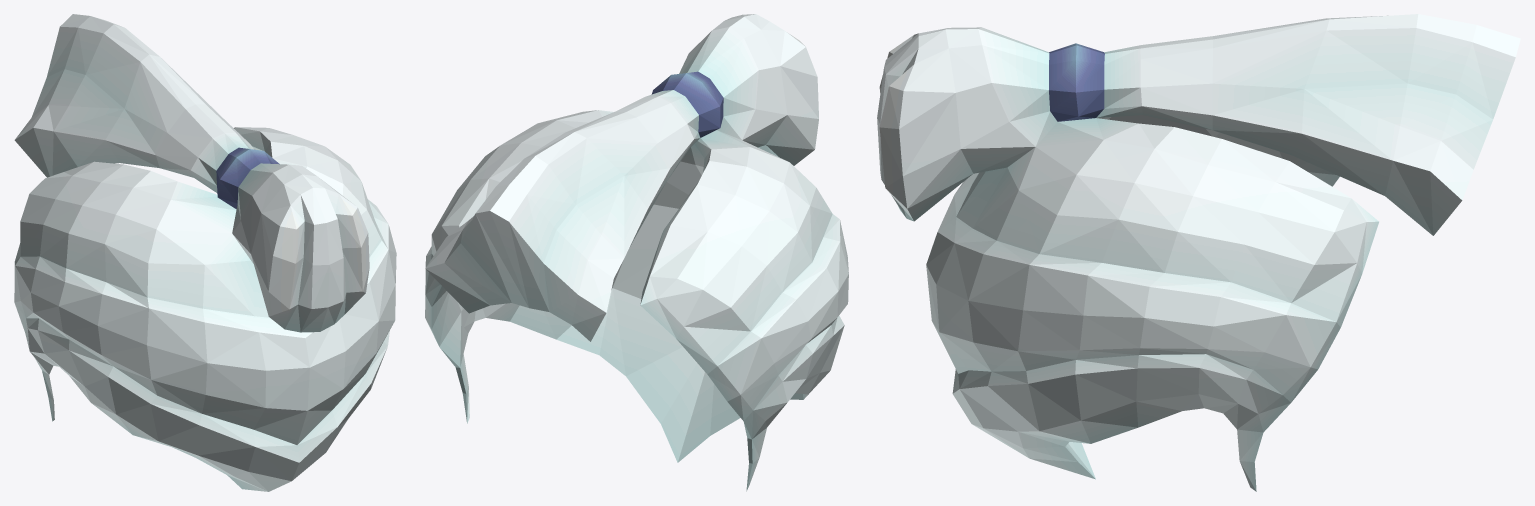
The model's file is CharSkyKid_Hair_AP03Samurai_01.glb.
3 views of the same model, side by side, from view 1: azimuth 30°, elevation 25°; view 2: azimuth 150°, elevation 25°; view 3: azimuth 270°, elevation 25° (orthographic). The views are drawn at different scales.
Visible parts, largest first — view 1: CharSkyKid_Hair_AP03Samurai_01; view 2: CharSkyKid_Hair_AP03Samurai_01; view 3: CharSkyKid_Hair_AP03Samurai_01.
Boxes of the visible parts, bbox=[...] form: CharSkyKid_Hair_AP03Samurai_01: bbox=[14, 14, 396, 491]; CharSkyKid_Hair_AP03Samurai_01: bbox=[425, 14, 848, 491]; CharSkyKid_Hair_AP03Samurai_01: bbox=[877, 14, 1520, 491].
Size of the model in its own units: 2.57 by 2.77 by 3.47.
1 material, 1 textured.
